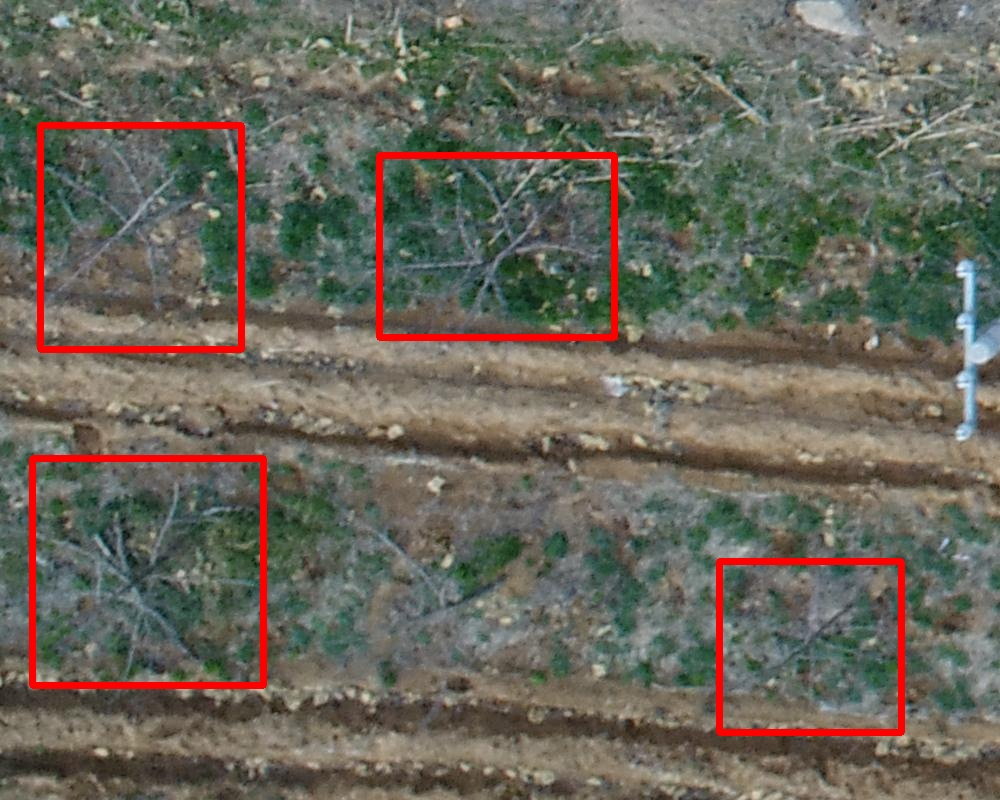apple: (32, 458, 263, 685), (40, 125, 241, 349), (379, 155, 614, 337), (719, 561, 901, 732)
